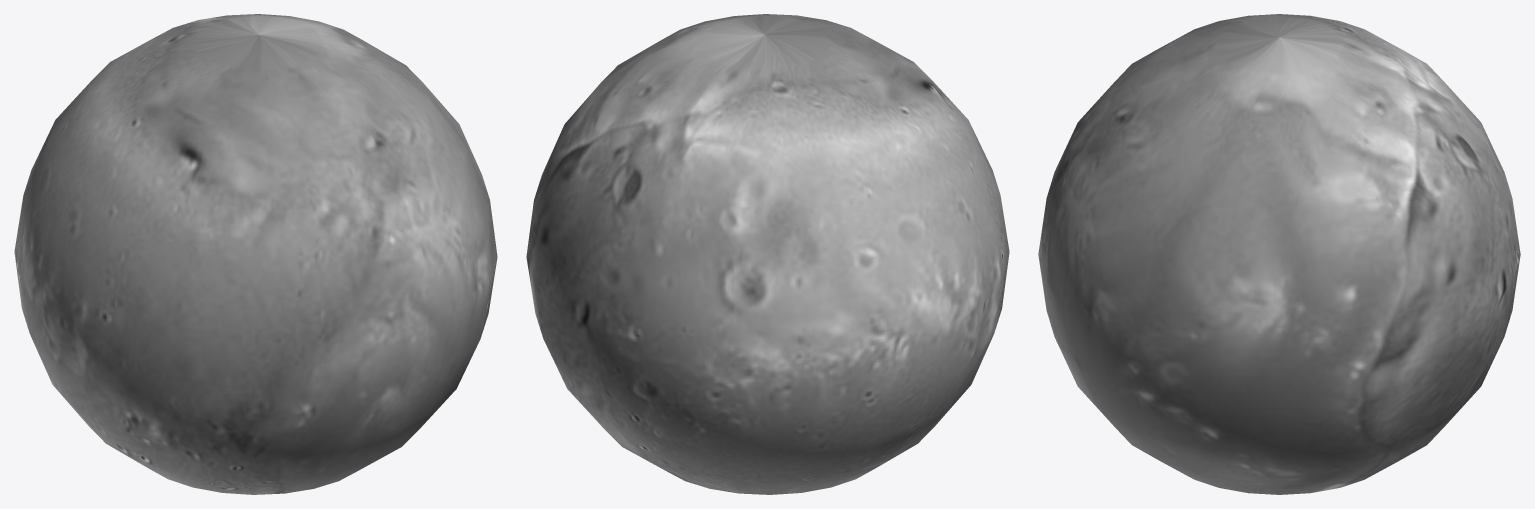
File: deimos.glb
The picture shows the model from 3 angles, left to right: view 1: azimuth 30°, elevation 25°; view 2: azimuth 150°, elevation 25°; view 3: azimuth 270°, elevation 25°; orthographic projection.
Visible parts, largest first — view 1: Object_2; view 2: Object_2; view 3: Object_2.
Part boxes in pixels (x1,y1,x2,y2): Object_2: (14,14,497,494); Object_2: (526,14,1009,494); Object_2: (1038,14,1520,494).
Bounding box in the file's own units: 0.9999 × 0.9999 × 1.
1 material, 1 textured.
